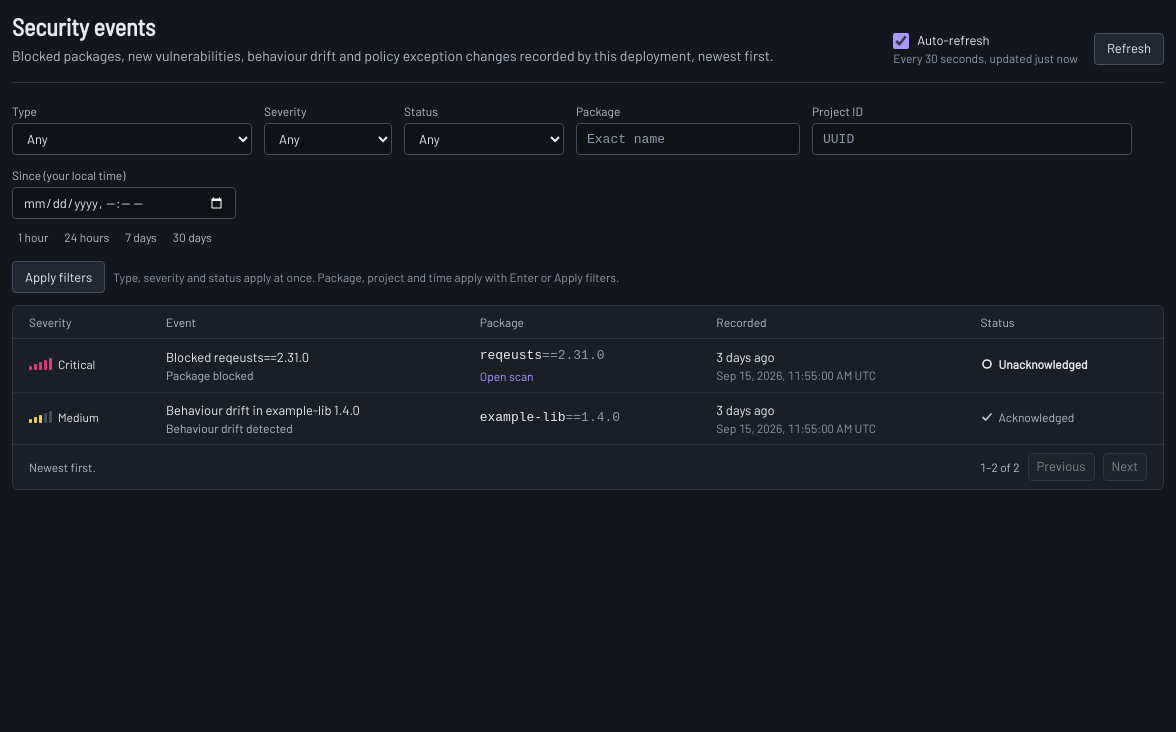
Test: Events › refuses an invalid project ID without sending it, and says why
Type "project-1" into the field labelled "Project ID" at (972, 139), box [812,123,1132,155]
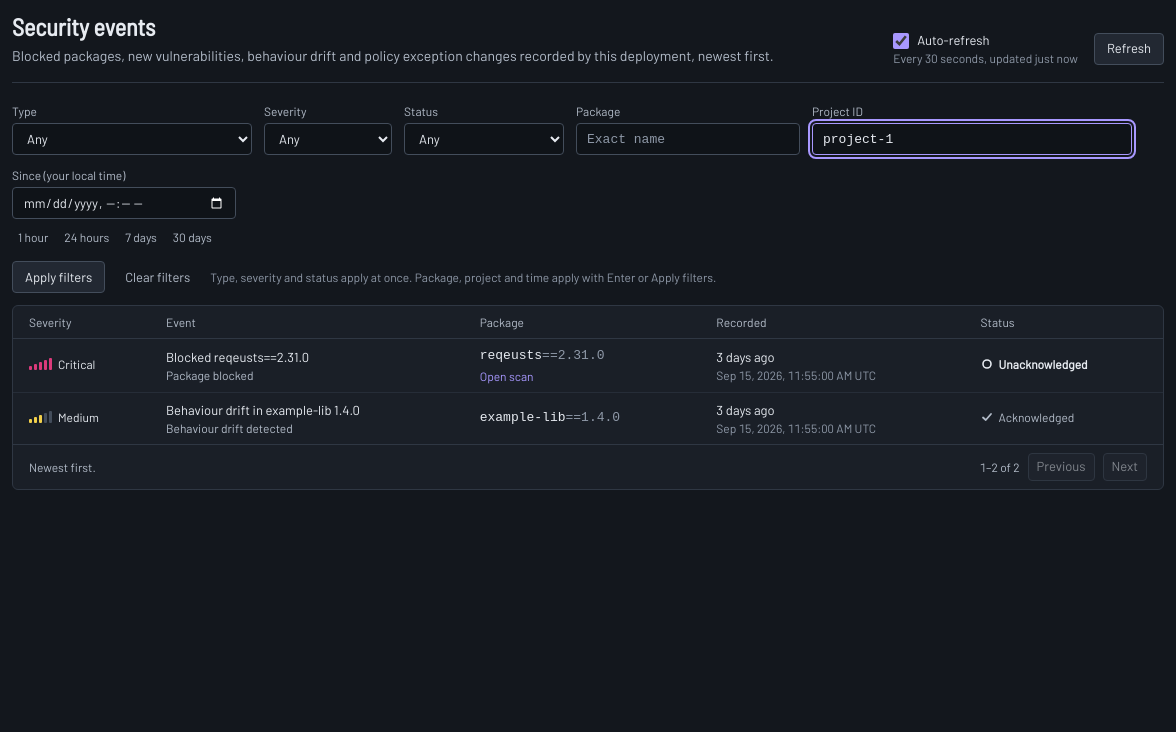
Click the button "Apply filters" at (59, 277), box [12,261,105,293]
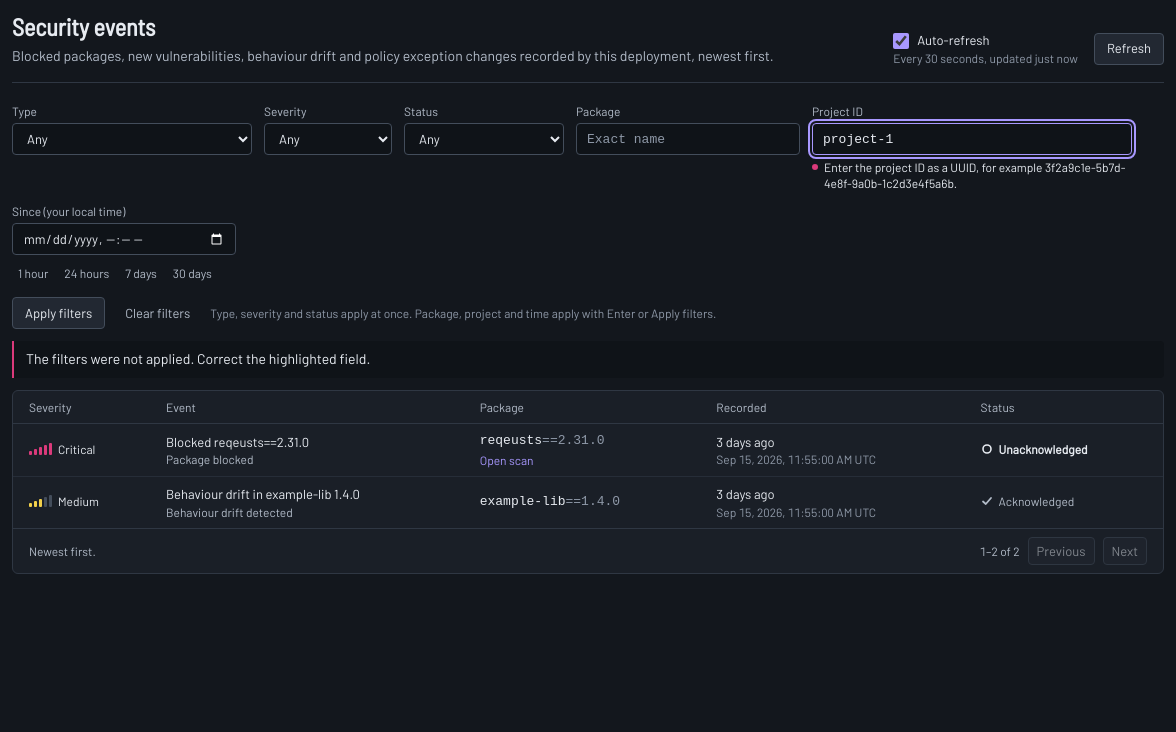
Now the message reads "The filters were not applied. Correct the highlighted field.", box [12,341,1164,378]
Replace the text in the field labelled "Project ID" with "3F2A9C1E-5B7D-4E8F-9A0B-1C2D3E4F5A6B" at (972, 139), box [812,123,1132,155]
Then press Enter
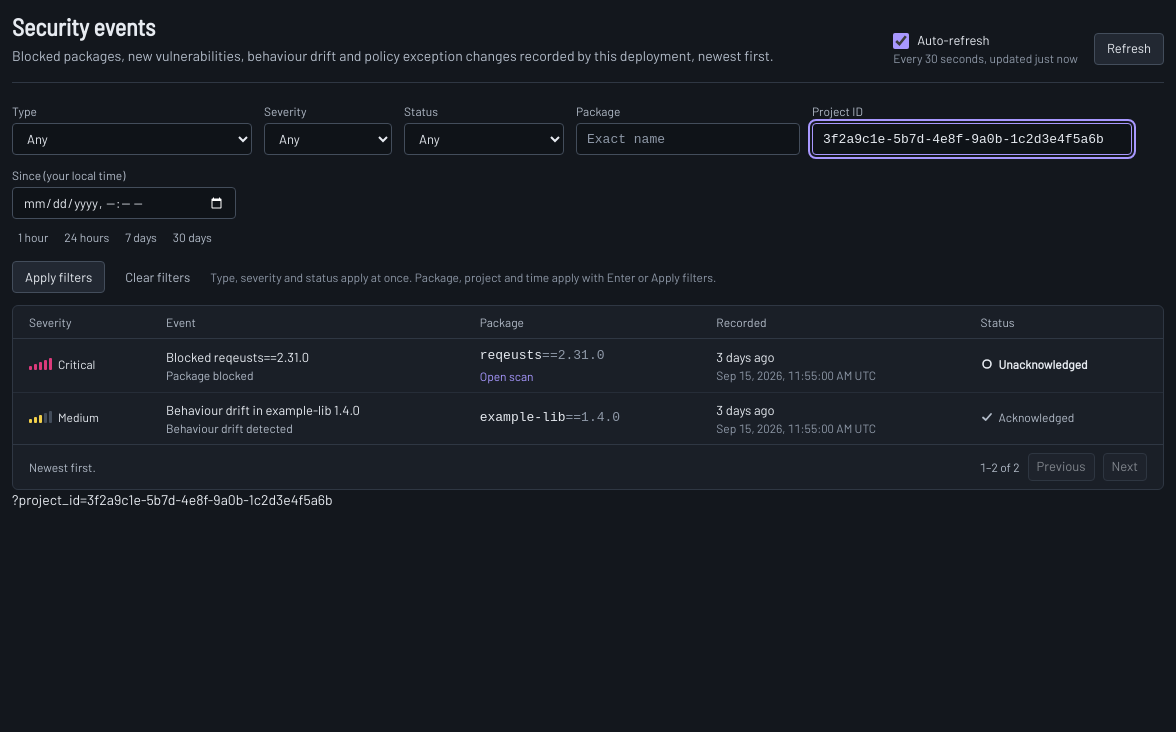
Expected: the message "The filters were not applied. Correct the highlighted field." is not shown
Now the text named "Current search" shows "project_id=3f2a9c1e-5b7d-4e8f-9a0b-1c2d3e4f5a6b", box [12,491,333,508]
